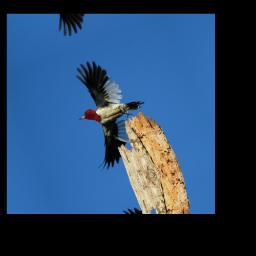Woodpecker: (61, 46, 162, 174)
